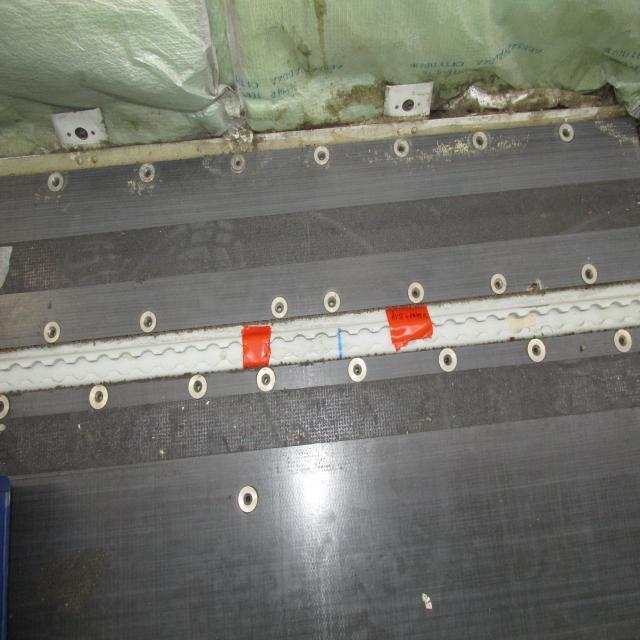Missing Fastener: (182, 369, 218, 409), (341, 352, 377, 386), (253, 356, 283, 396), (228, 482, 264, 514), (85, 376, 113, 416), (435, 342, 465, 374), (608, 324, 636, 356), (64, 121, 100, 145), (484, 269, 512, 295), (136, 156, 160, 186), (389, 95, 423, 116), (579, 255, 601, 287), (136, 308, 160, 337), (526, 336, 550, 364), (321, 288, 344, 316), (554, 121, 578, 145), (392, 135, 416, 159), (268, 296, 292, 320), (42, 316, 62, 344), (311, 143, 334, 167), (46, 170, 68, 194), (406, 277, 426, 303), (470, 130, 490, 150), (230, 153, 250, 173), (0, 391, 8, 417)
